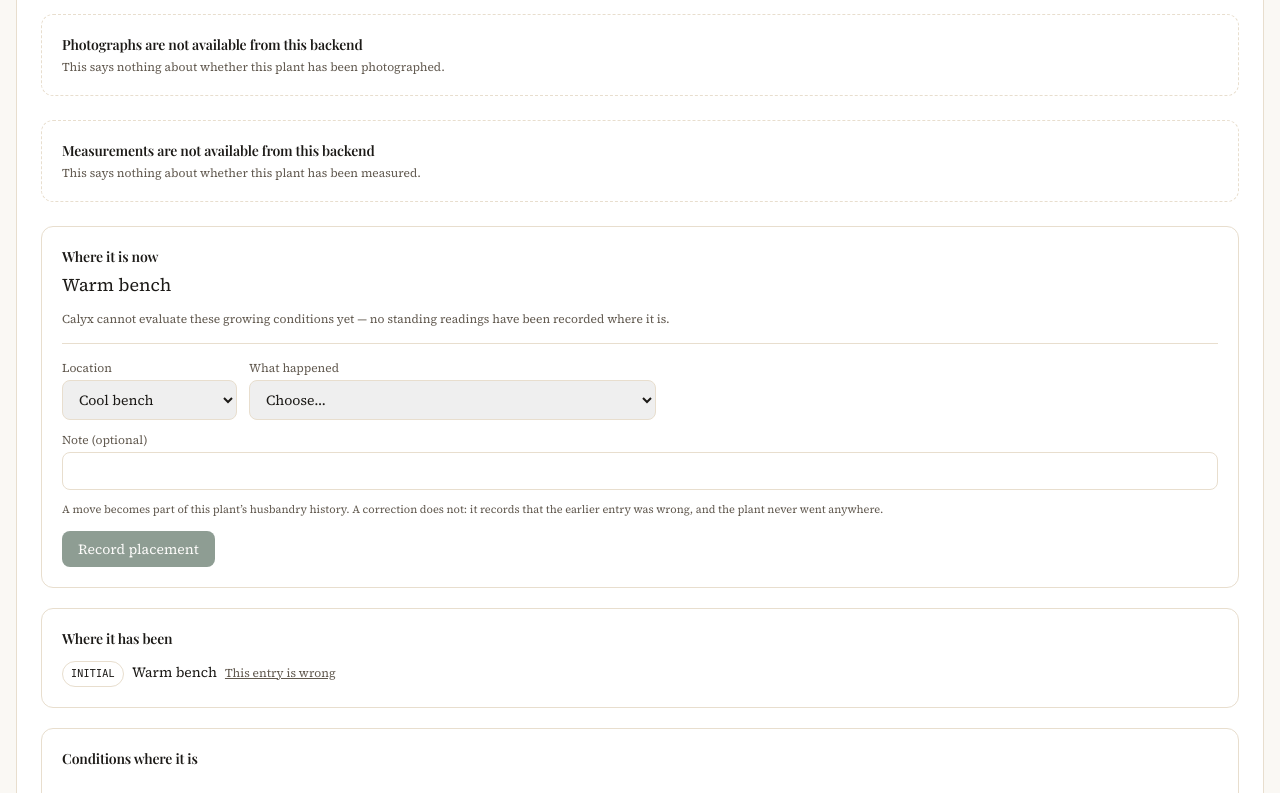
Test: MyConservatory recording a placement › will not submit until the grower says what happened
(page scrolled)
expect the button with test id "placement-submit" is disabled: met, box x1=62 y1=530 x2=215 y2=566
Select "Cool bench" in the dropdown labelled "Location". click: (150, 400)
box: x1=62 y1=380 x2=237 y2=420
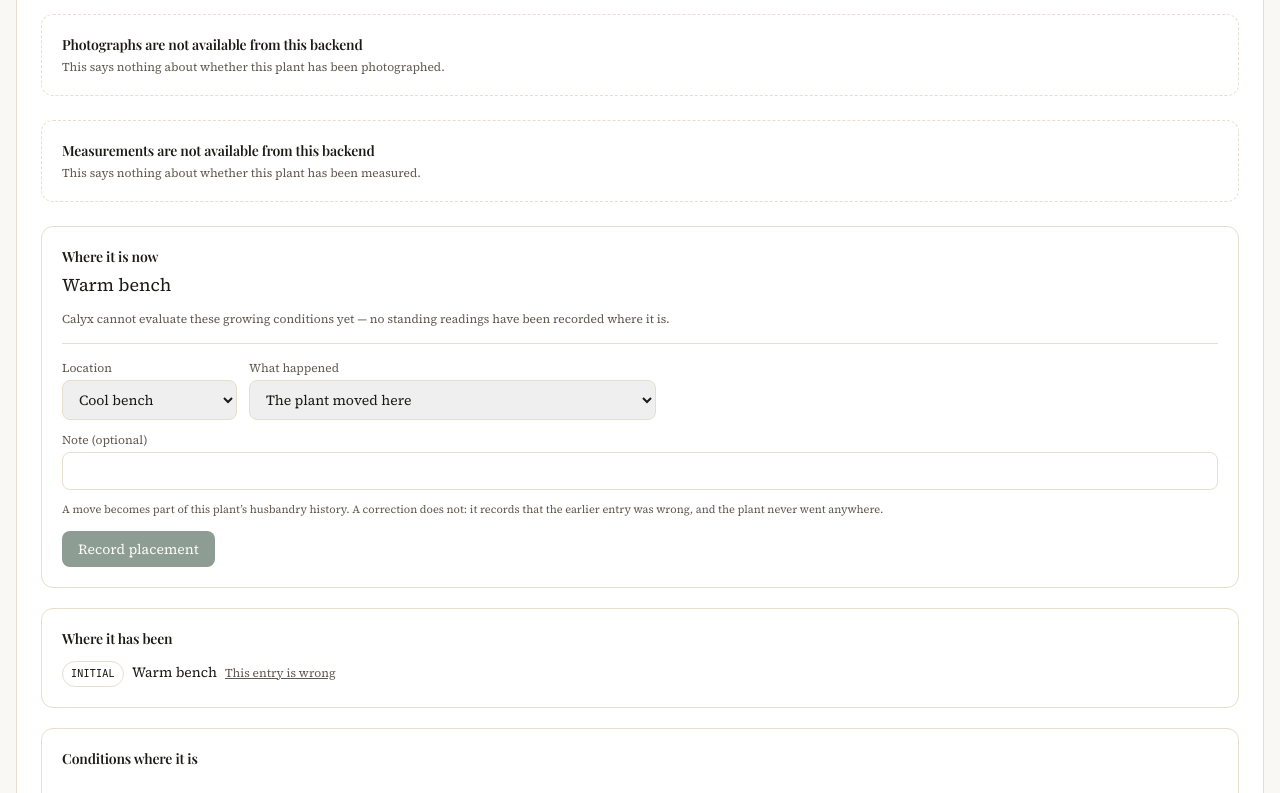
expect the button with test id "placement-submit" is disabled: met, box x1=62 y1=530 x2=215 y2=566
Select "The plant moved here" in the dropdown with test id "placement-reason-select". click: (452, 400)
box: x1=249 y1=380 x2=656 y2=420
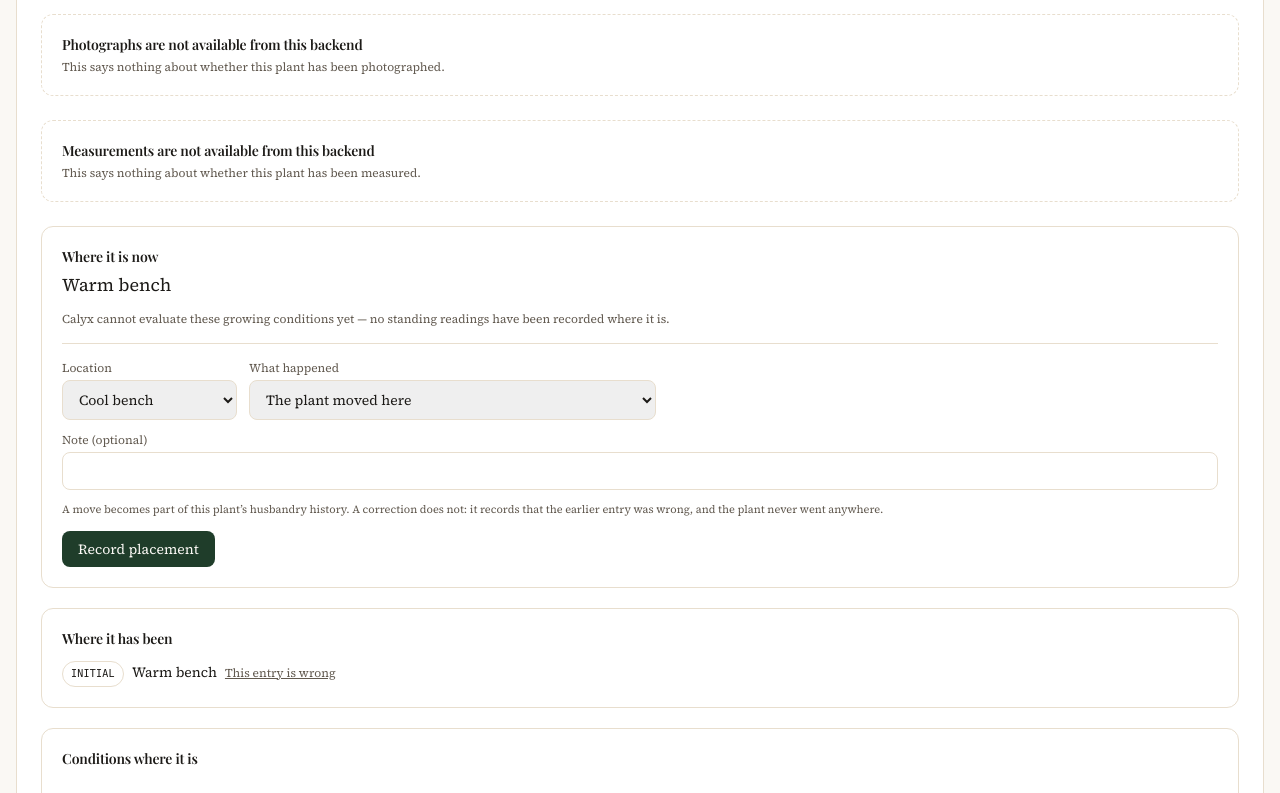
expect the button with test id "placement-submit" is enabled: met, box x1=62 y1=530 x2=215 y2=566
